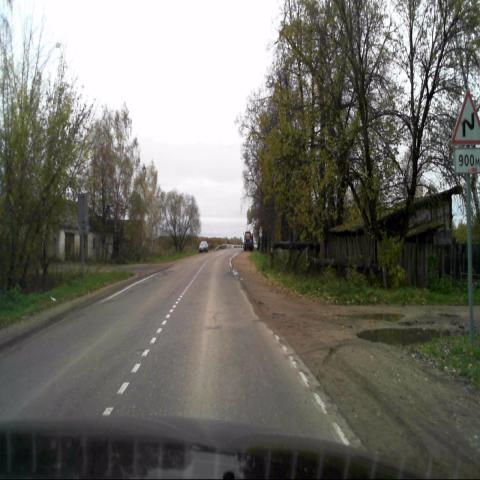1_12: (452, 90, 480, 146)
8_1_1: (454, 147, 480, 176)
